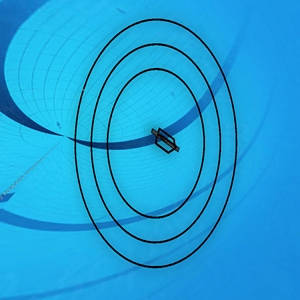circle: (75, 18, 238, 270)
submarine: (152, 128, 181, 155)
